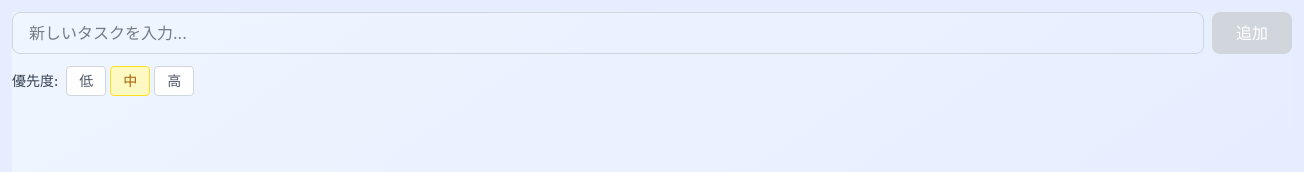
TaskInput › should show character counter
Type "Test" into the field with placeholder "新しいタスクを入力..." at (608, 33), box [12, 12, 1204, 54]
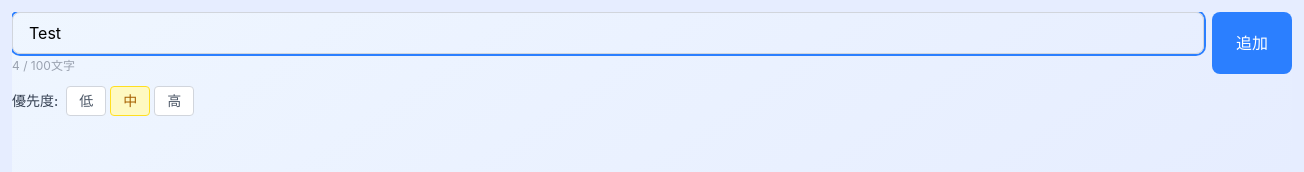
Check: the text "4 / 100文字" is shown, box [12, 58, 75, 73]
